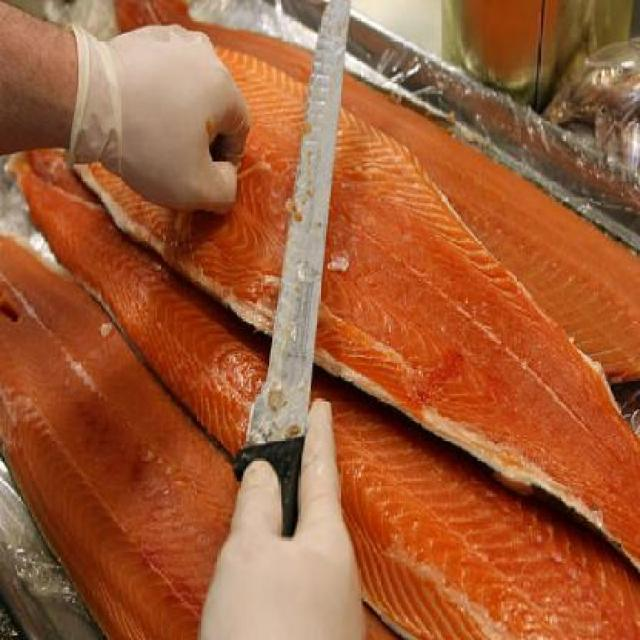salmon: (11, 128, 640, 636), (87, 12, 640, 556), (1, 232, 458, 640)
